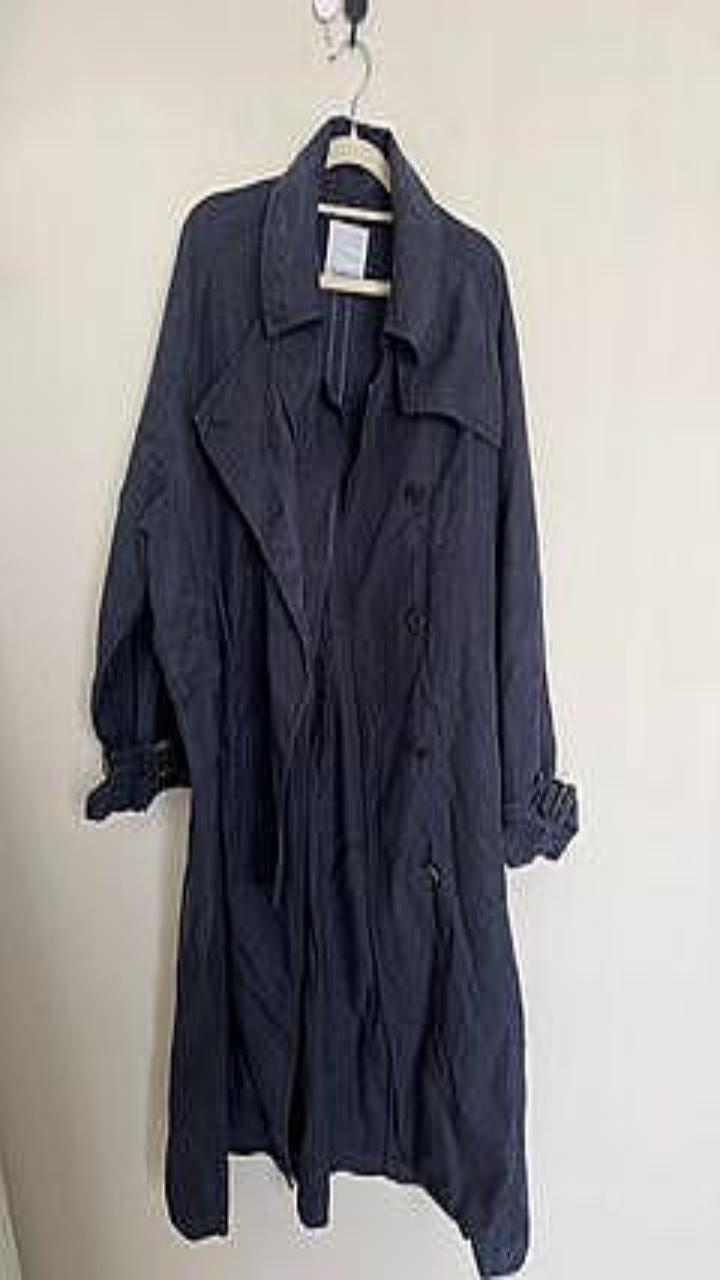Coat: (85, 115, 577, 1276)
